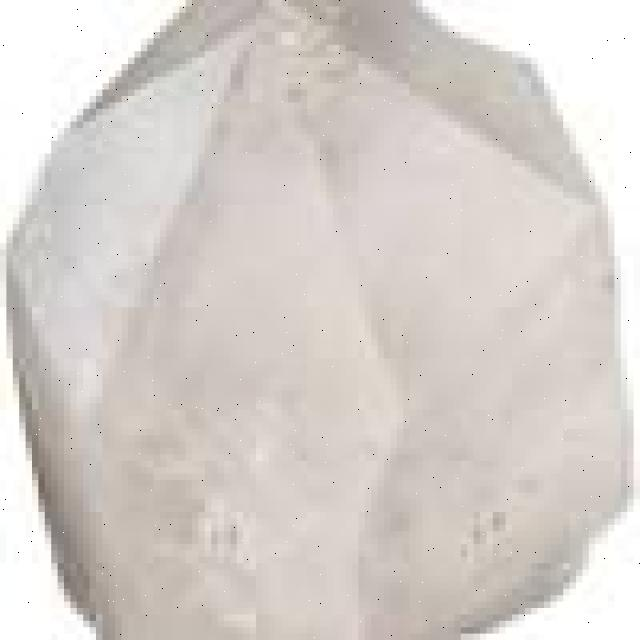Metamorphic: (6, 6, 628, 634)
